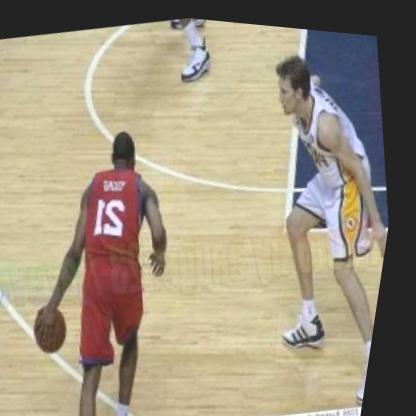basketball: (34, 298, 84, 357)
